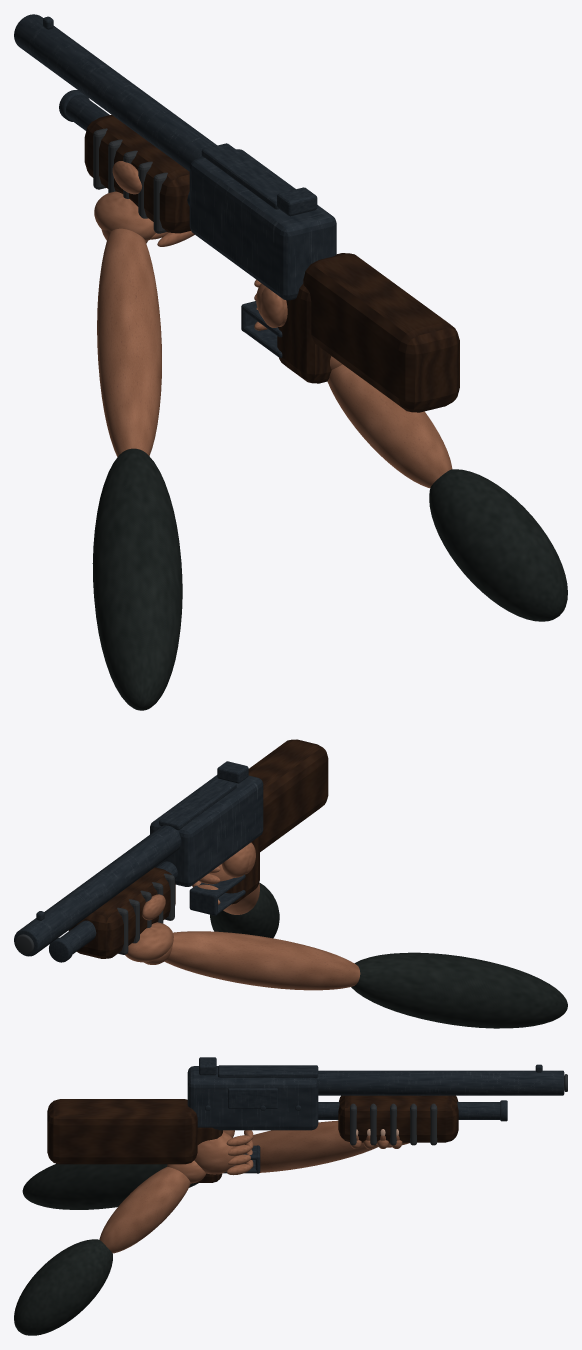
File: pump_shotgun.glb
The picture shows the model from 3 angles, top to bottom: view 1: azimuth 30°, elevation 25°; view 2: azimuth 150°, elevation 25°; view 3: azimuth 270°, elevation 25°; orthographic projection. The views are drawn at different scales.
Parts seen in each view (by area): view 1: Single firing barrel, Pistol grip, Left sleeve, Left fingertip, Right sleeve, Right fingertip, Pump fore-end, Magazine tube (closed), Pump grip rib; view 2: Left sleeve, Single firing barrel, Left fingertip, Pistol grip, Magazine tube (closed), Pump fore-end, Right sleeve, Right fingertip, Pump grip rib, Closed magazine cap; view 3: Single firing barrel, Pistol grip, Right fingertip, Right sleeve, Left sleeve, Pump fore-end, Magazine tube (closed), Left fingertip, Pump grip rib.
Boxes of the visible parts, x1,y1,x2,y2 form: Single firing barrel: (14,14,336,300); Pistol grip: (277,253,459,412); Left sleeve: (92,448,182,710); Left fingertip: (94,161,194,456); Right sleeve: (429,469,567,621); Right fingertip: (254,279,452,488); Pump fore-end: (84,114,190,233); Magazine tube (closed): (66,95,317,357); Pump grip rib: (93,128,167,233); Left sleeve: (351,952,567,1028); Single firing barrel: (14,775,263,956); Left fingertip: (125,894,360,990); Pistol grip: (225,739,328,904); Magazine tube (closed): (60,761,248,953); Pump fore-end: (68,867,175,958); Right sleeve: (210,882,279,938); Right fingertip: (192,842,259,914); Pump grip rib: (117,873,174,954); Closed magazine cap: (36,911,72,962); Single firing barrel: (187,1066,564,1130); Pistol grip: (47,1099,222,1182); Right fingertip: (99,1130,253,1253); Right sleeve: (14,1239,112,1335); Left sleeve: (22,1163,198,1209); Pump fore-end: (338,1095,458,1142); Magazine tube (closed): (199,1057,500,1173); Left fingertip: (243,1120,409,1172); Pump grip rib: (350,1103,437,1145).
Bounding box in the file's own units: 0.6727 × 0.5204 × 1.1.
Materials: 8 (6 with a texture image).
